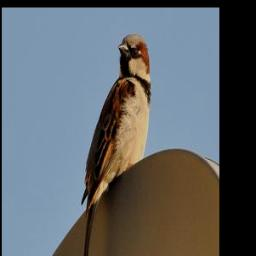Swallow: (82, 33, 153, 256)
